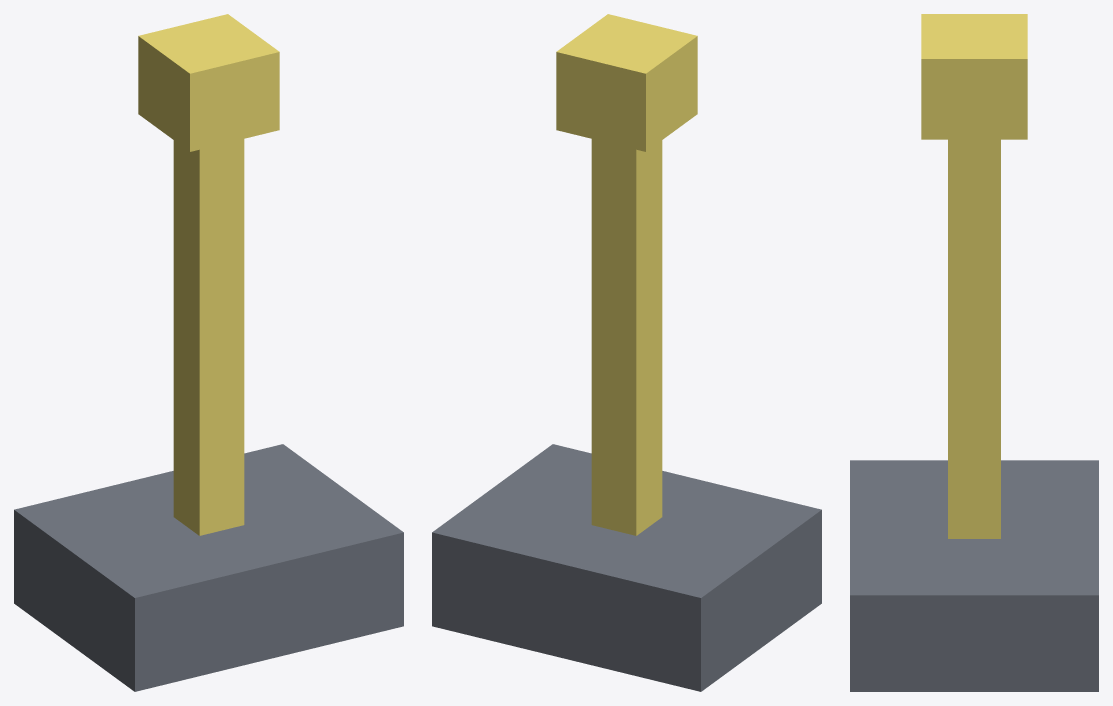
The model's file is time-lever.glb.
3 renders of one model, left to right at view 1: azimuth 30°, elevation 25°; view 2: azimuth 150°, elevation 25°; view 3: azimuth 270°, elevation 25°, orthographic. The views are drawn at different scales.
Parts seen in each view (by area): view 1: time-lever; view 2: time-lever; view 3: time-lever.
Part boxes in pixels (<box>): time-lever: <box>14,14,403,691</box>; time-lever: <box>432,14,821,691</box>; time-lever: <box>850,14,1098,691</box>.
Size of the model in its own units: 0.36 by 0.73 by 0.28.
